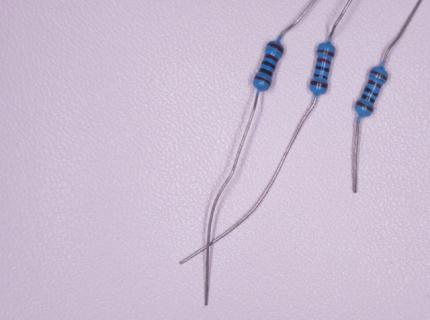Brown band: (368, 79, 382, 89), (264, 54, 279, 63)
